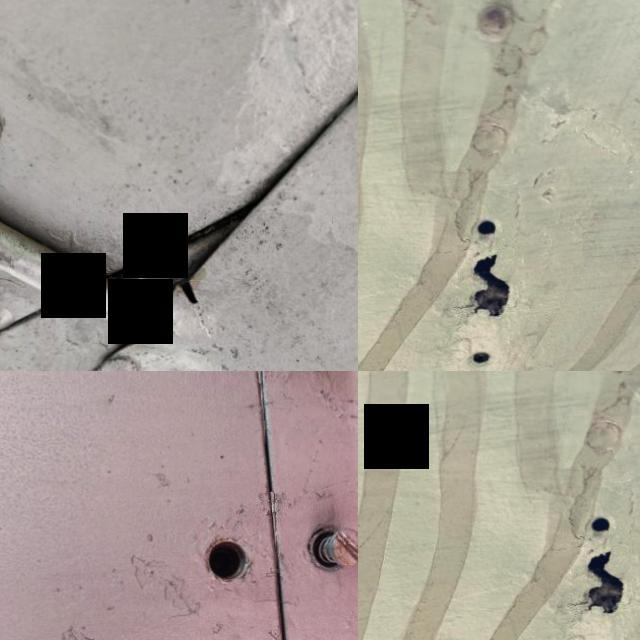Crack: (436, 240, 534, 346), (549, 536, 640, 640), (158, 260, 218, 326)
Missing_Fastener: (187, 506, 292, 614)
